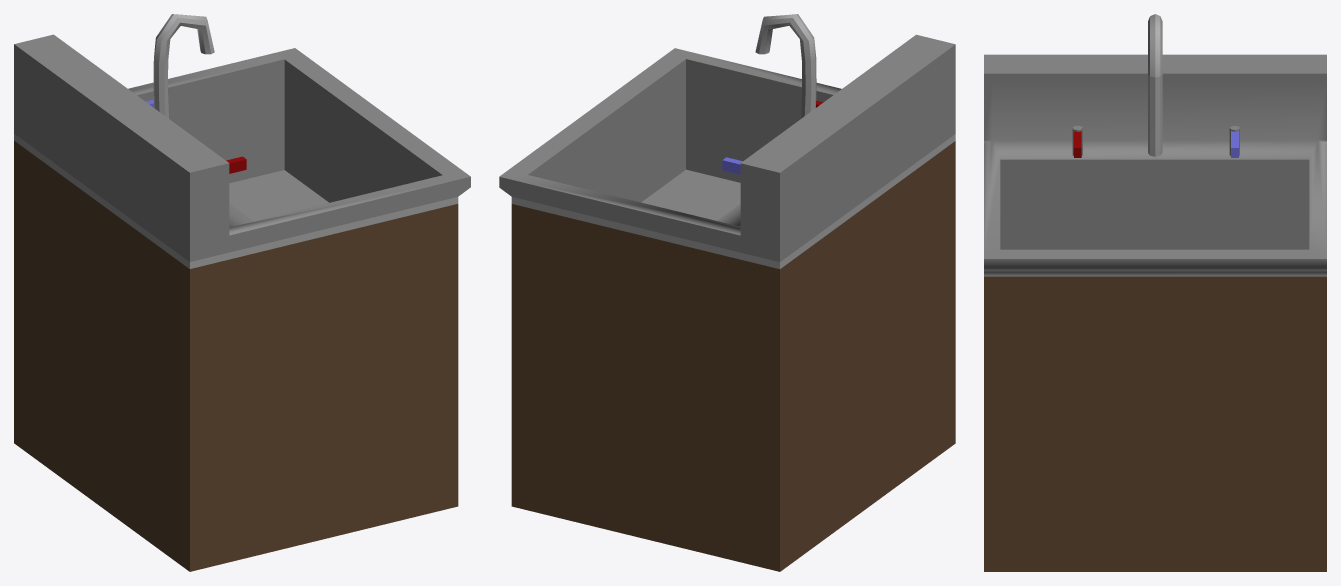
Rendered from Sink.fbx.
The picture shows the model from 3 angles, left to right: view 1: azimuth 30°, elevation 25°; view 2: azimuth 150°, elevation 25°; view 3: azimuth 270°, elevation 25°; orthographic projection. The views are drawn at different scales.
Parts seen in each view (by area): view 1: pCube5; view 2: pCube5; view 3: pCube5.
Part boxes in pixels (left/top/right/bottom): pCube5: left=14, top=14, right=470, bottom=571; pCube5: left=499, top=14, right=955, bottom=571; pCube5: left=984, top=14, right=1326, bottom=571.
Size of the model in its own units: 101 by 164 by 110.
